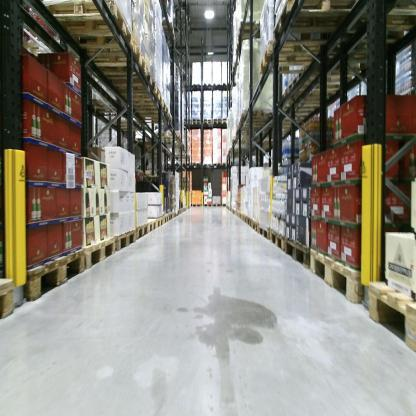pallets: (22, 206, 190, 304), (46, 0, 174, 125), (227, 207, 365, 306), (366, 280, 415, 352), (186, 154, 233, 171), (182, 197, 234, 212), (187, 118, 231, 132)
